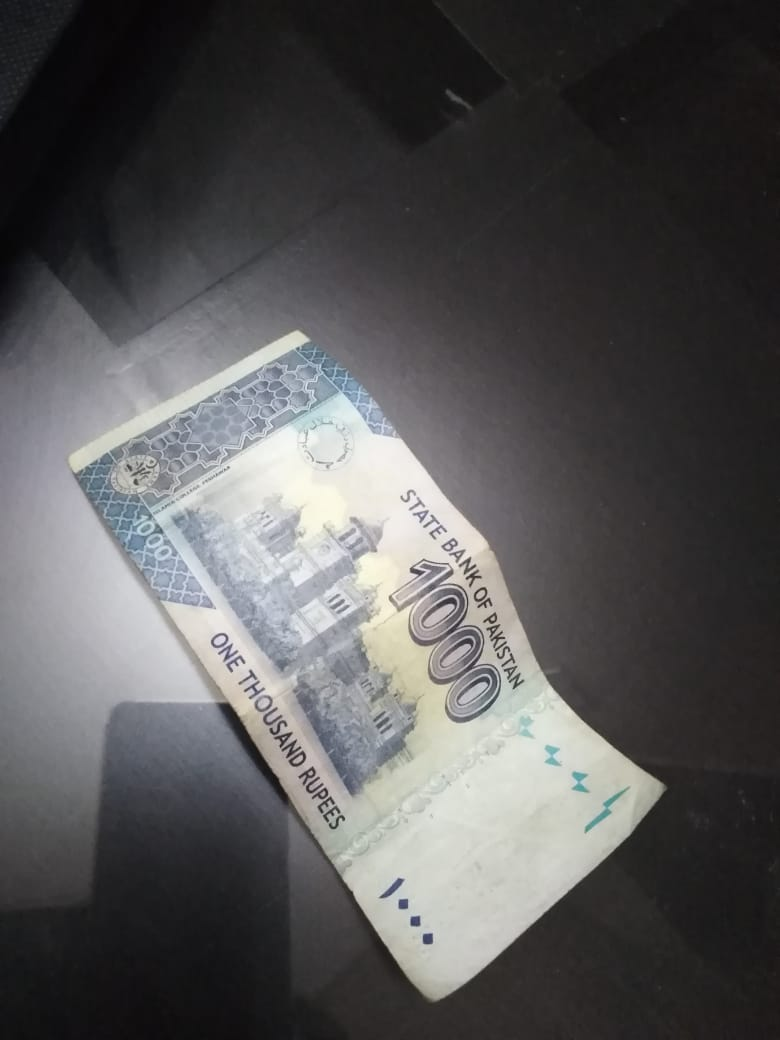1000 rupee: (40, 303, 680, 1020)
